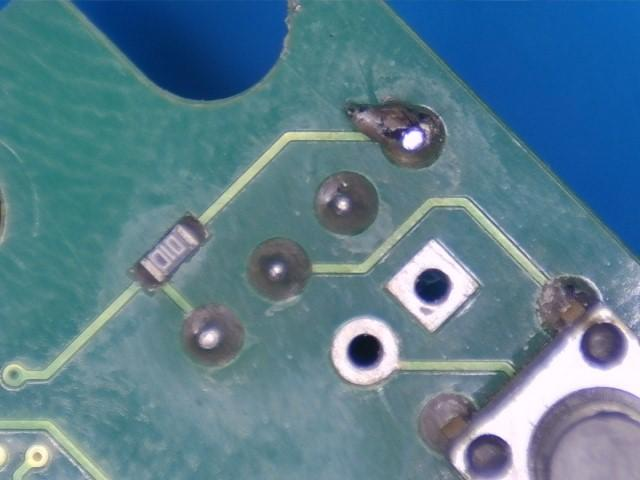Dry_joint: (344, 98, 448, 170)
